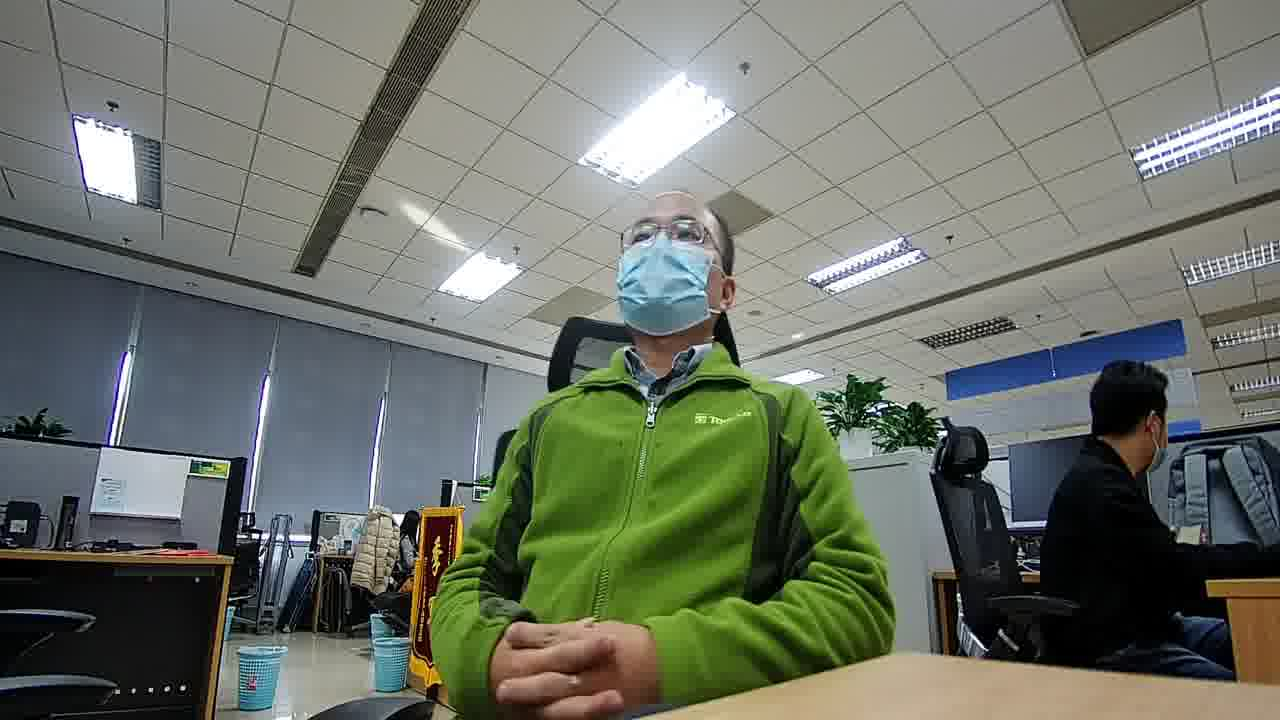face: (615, 192, 723, 334)
mask: (616, 237, 711, 334)
person: (514, 185, 791, 425), (1046, 354, 1186, 537), (393, 505, 423, 549)
